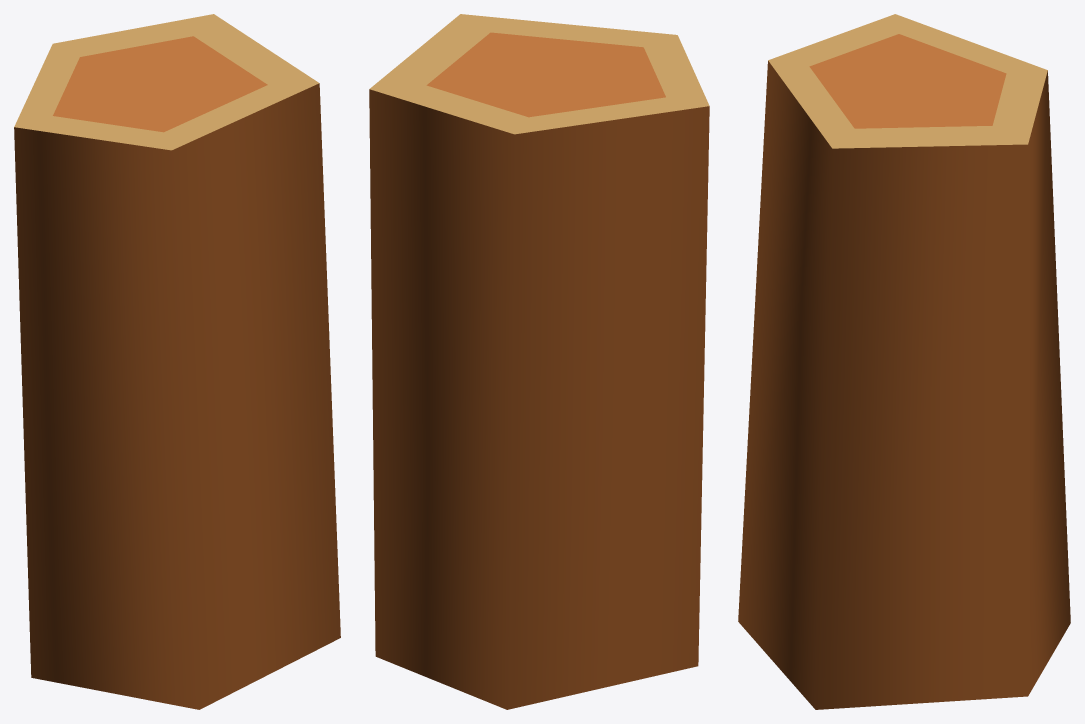
File: TrunkF.fbx
3 views of the same model, side by side, from view 1: azimuth 30°, elevation 25°; view 2: azimuth 150°, elevation 25°; view 3: azimuth 270°, elevation 25° (orthographic). The views are drawn at different scales.
Parts seen in each view (by area): view 1: TrunkF; view 2: TrunkF; view 3: TrunkF.
Part boxes in pixels (x1,y1,x2,y2): TrunkF: (14,14,340,709); TrunkF: (369,14,709,709); TrunkF: (738,14,1070,709).
Size of the model in its own units: 47.19 by 86.64 by 47.07.
